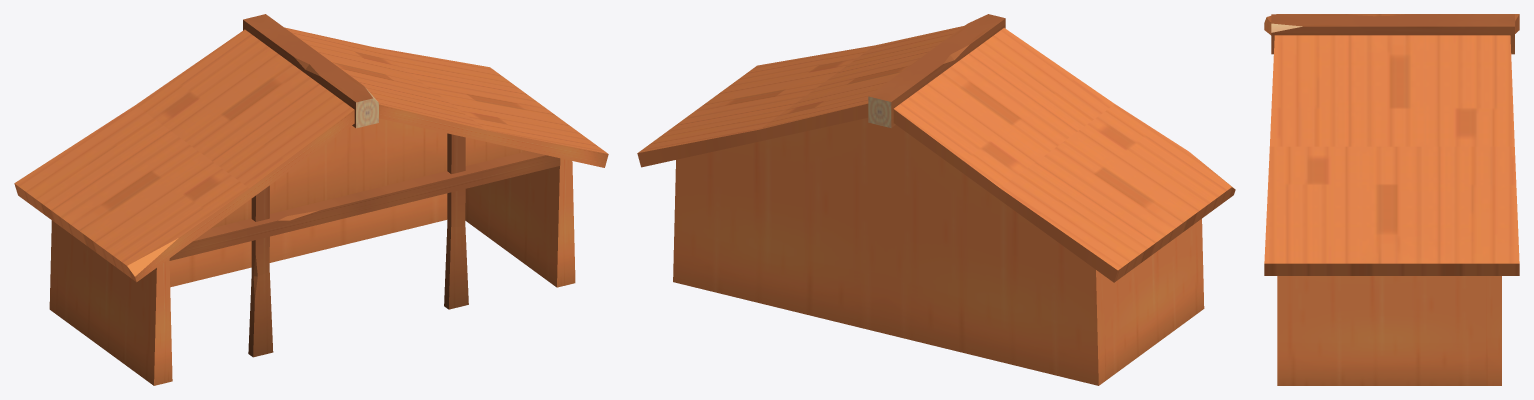
Rendered from Animal_House_3.fbx.
3 renders of one model, left to right at view 1: azimuth 30°, elevation 25°; view 2: azimuth 150°, elevation 25°; view 3: azimuth 270°, elevation 25°, orthographic. The views are drawn at different scales.
Visible parts, largest first — view 1: Animal_House_3; view 2: Animal_House_3; view 3: Animal_House_3.
Boxes of the visible parts, left/top/right/bottom form: Animal_House_3: left=14, top=14, right=608, bottom=385; Animal_House_3: left=637, top=14, right=1235, bottom=385; Animal_House_3: left=1264, top=14, right=1519, bottom=385.
Size of the model in its own units: 737 by 351 by 318.
